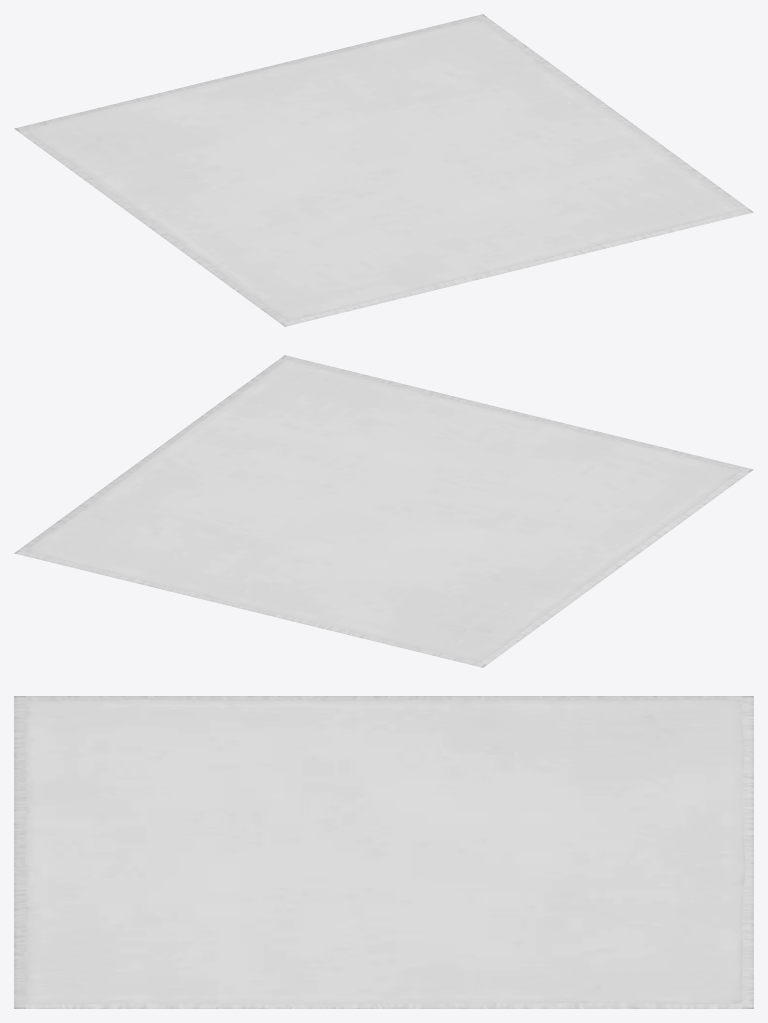
File: squarecarfet.glb
3 views of the same model, one above another, from view 1: azimuth 30°, elevation 25°; view 2: azimuth 150°, elevation 25°; view 3: azimuth 270°, elevation 25° (orthographic). The views are drawn at different scales.
Visible parts, largest first — view 1: Edge__mMain; view 2: Edge__mMain; view 3: Edge__mMain.
Boxes of the visible parts, x1,y1,x2,y2 form: Edge__mMain: (14, 14, 753, 326); Edge__mMain: (14, 355, 753, 667); Edge__mMain: (14, 696, 753, 1008).
Size of the model in its own units: 1.2 by 0.0012 by 1.2.
Materials: 1 (1 with a texture image).
